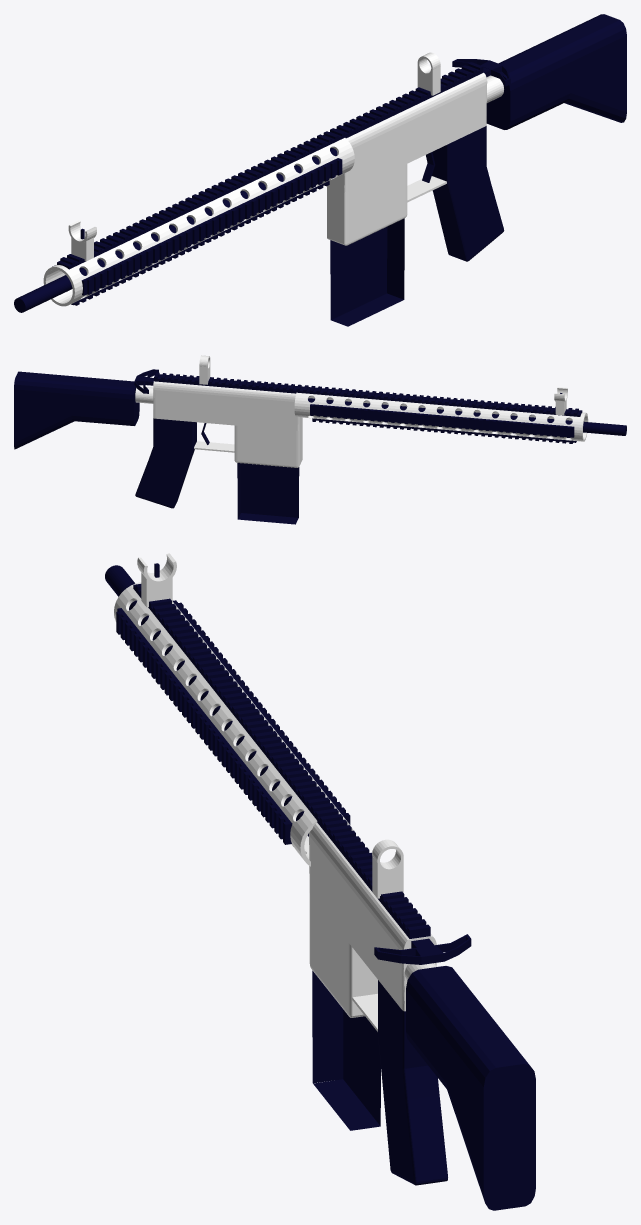
The model's file is stoner0023.obj.
The picture shows the model from 3 angles, top to bottom: view 1: azimuth 30°, elevation 25°; view 2: azimuth 150°, elevation 25°; view 3: azimuth 270°, elevation 25°; orthographic projection. The views are drawn at different scales.
Parts seen in each view (by area): view 1: shoulderStock, upperReceiver, rearPistolGrip, picatinyRail, mag, handGuard, picatinyRailLeft, magWell, barrel, picatinyRailBottom, handle, lowerTriggerGuard (+1 smaller); view 2: shoulderStock, upperReceiver, handGuard, rearPistolGrip, picatinyRail, mag, picatinyRailRight, magWell, barrel, picatinyRailBottom, lowerTriggerGuard, handle (+1 smaller); view 3: shoulderStock, picatinyRail, rearPistolGrip, upperReceiver, mag, handGuard, picatinyRailLeft, magWell, picatinyRailRight, handle, barrel.
Boxes of the visible parts, x1,y1,x2,y2 form: shoulderStock: (486, 14, 626, 129); upperReceiver: (327, 72, 487, 192); rearPistolGrip: (432, 126, 504, 261); picatinyRail: (57, 62, 483, 269); mag: (330, 218, 404, 326); handGuard: (43, 138, 354, 306); picatinyRailLeft: (81, 158, 342, 295); magWell: (327, 164, 407, 245); barrel: (14, 148, 337, 312); picatinyRailBottom: (71, 181, 329, 305); handle: (452, 59, 510, 86); lowerTriggerGuard: (407, 176, 446, 202); shoulderStock: (14, 371, 139, 449); upperReceiver: (153, 381, 302, 430); handGuard: (294, 392, 588, 441); rearPistolGrip: (135, 418, 196, 508); picatinyRail: (154, 372, 582, 416); mag: (237, 463, 299, 524); picatinyRailRight: (310, 404, 574, 437); magWell: (234, 424, 302, 467); barrel: (308, 398, 626, 435); picatinyRailBottom: (312, 418, 576, 443); lowerTriggerGuard: (194, 441, 234, 452); handle: (134, 369, 158, 393); shoulderStock: (406, 966, 535, 1210); picatinyRail: (133, 584, 430, 938); rearPistolGrip: (378, 980, 447, 1185); upperReceiver: (309, 823, 436, 1011); mag: (312, 970, 380, 1130); handGuard: (114, 582, 353, 866); picatinyRailLeft: (116, 608, 292, 844); magWell: (309, 893, 377, 1017); picatinyRailRight: (173, 600, 350, 824); handle: (374, 934, 471, 964); barrel: (105, 565, 308, 836).
Bounding box in the file's own units: 8.63 × 2.51 × 3.12.
